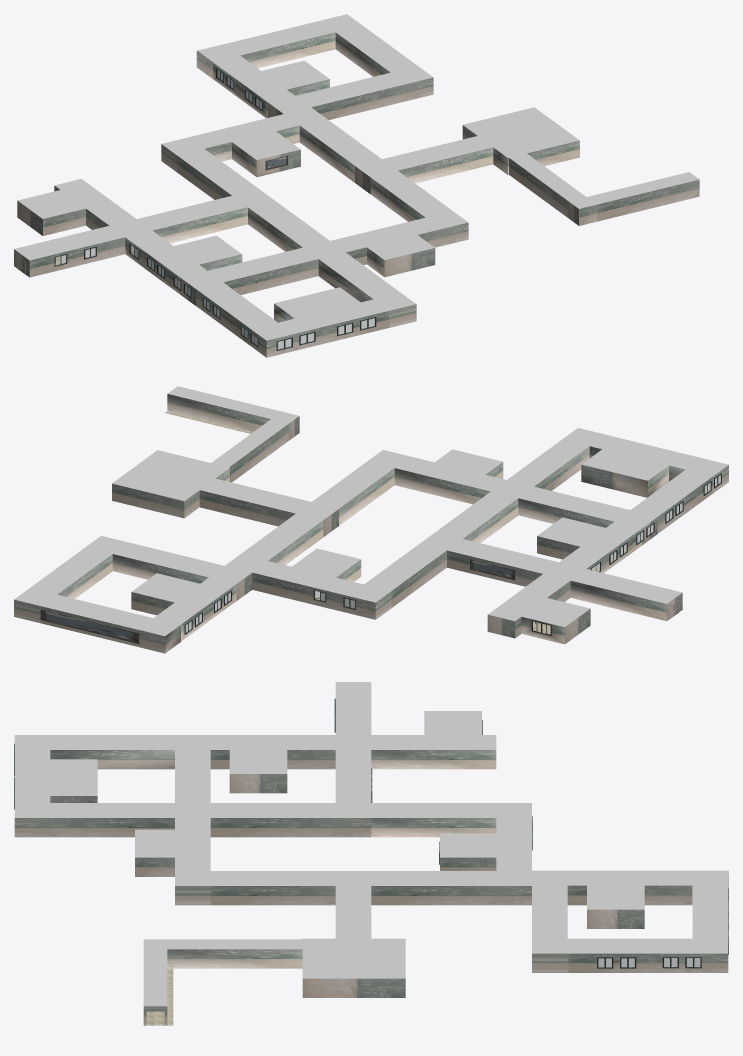
File: Laboratorio.obj
The picture shows the model from 3 angles, top to bottom: view 1: azimuth 30°, elevation 25°; view 2: azimuth 150°, elevation 25°; view 3: azimuth 270°, elevation 25°; orthographic projection. The views are drawn at different scales.
Parts seen in each view (by area): view 1: AreaFinal, Pasillo18, Pasillo13, Pasillo5, Pasillo9, Entrada_Principal, Pasillo14, Pasillo17, Pasillo3, Pasillo10, Pasillo8, PasilloFinal3 (+20 smaller); view 2: AreaFinal, Pasillo7, Pasillo10, Entrada_Principal, Pasillo16, Pasillo9, Pasillo18, Pasillo5, PasilloFinal3, Pasillo_15, Habitacion2, Pasillo2 (+20 smaller); view 3: AreaFinal, Pasillo2, Pasillo8, Pasillo14, Pasillo16, Pasillo11, Pasillo6, Pasillo4, PasilloFinal2, Pasillo_15, Pasillo12, Pasillo_1 (+16 smaller).
Part boxes in pixels (x1,y1,x2,y2): AreaFinal: [462, 107, 579, 174]; Pasillo18: [296, 66, 433, 119]; Pasillo13: [251, 299, 389, 357]; Pasillo5: [208, 241, 345, 294]; Pasillo9: [382, 136, 507, 183]; Entrada_Principal: [14, 225, 125, 277]; Pasillo14: [318, 252, 416, 327]; Pasillo17: [196, 21, 335, 68]; Pasillo3: [137, 196, 247, 243]; Pasillo10: [331, 211, 468, 264]; Pasillo8: [284, 107, 381, 182]; PasilloFinal3: [587, 172, 699, 221]; AreaFinal: [112, 450, 230, 518]; Pasillo7: [252, 561, 391, 619]; Pasillo10: [368, 450, 506, 504]; Entrada_Principal: [570, 569, 682, 621]; Pasillo16: [14, 547, 112, 623]; Pasillo9: [199, 468, 310, 526]; Pasillo18: [86, 536, 223, 583]; Pasillo5: [491, 480, 629, 527]; PasilloFinal3: [165, 386, 281, 433]; Pasillo_15: [138, 577, 236, 653]; Habitacion2: [581, 449, 668, 497]; Pasillo2: [420, 491, 518, 550]; AreaFinal: [302, 938, 405, 997]; Pasillo2: [210, 803, 371, 837]; Pasillo8: [371, 871, 531, 905]; Pasillo14: [14, 803, 175, 837]; Pasillo16: [567, 938, 728, 972]; Pasillo11: [210, 871, 335, 905]; Pasillo6: [371, 735, 496, 769]; Pasillo4: [371, 803, 496, 837]; PasilloFinal2: [167, 939, 302, 968]; Pasillo_15: [567, 870, 728, 905]; Pasillo12: [50, 735, 175, 769]; Pasillo_1: [210, 735, 371, 769].
Size of the model in its own units: 90.48 by 2.47 by 80.29.
